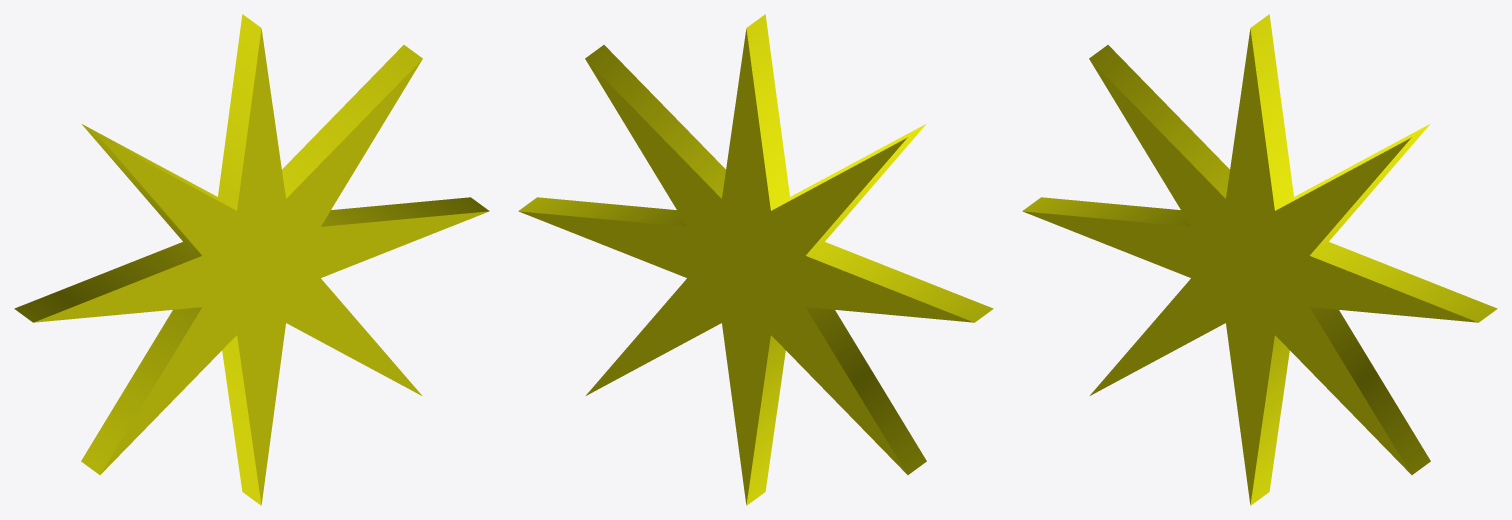
File: Bullet.fbx
3 renders of one model, left to right at view 1: azimuth 30°, elevation 25°; view 2: azimuth 150°, elevation 25°; view 3: azimuth 330°, elevation 25°, orthographic.
Visible parts, largest first — view 1: pCylinder1; view 2: pCylinder1; view 3: pCylinder1.
Part boxes in pixels (x1,y1,x2,y2): pCylinder1: [14, 14, 489, 505]; pCylinder1: [518, 14, 993, 505]; pCylinder1: [1022, 14, 1497, 505].
Bounding box in the file's own units: 0.9985 × 0.9985 × 0.0725.
